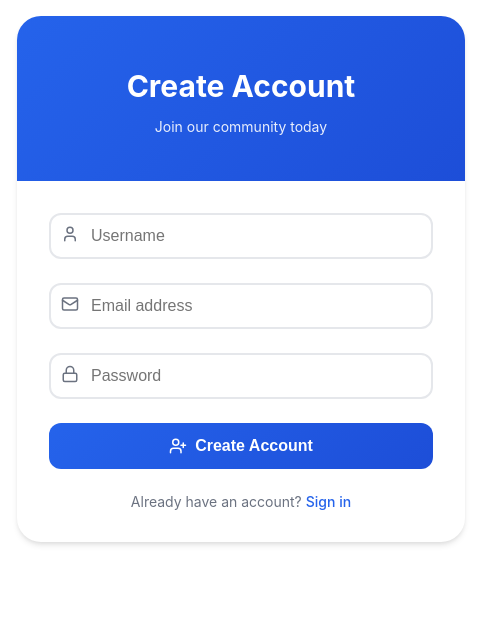
Register Component › displays an error message if signUp fails
This screenshot has width=483, height=637.
Type "validUser" into the field with placeholder "Username" at (241, 236), box [49, 213, 433, 259]
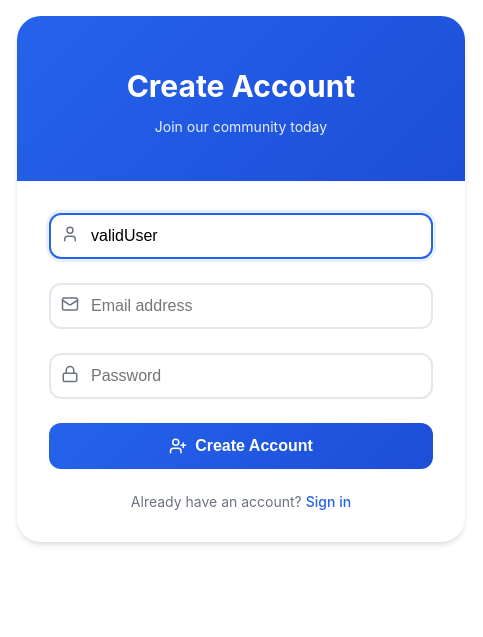
Type "test@example.com" into the field with placeholder "Email address" at (241, 306), box [49, 283, 433, 329]
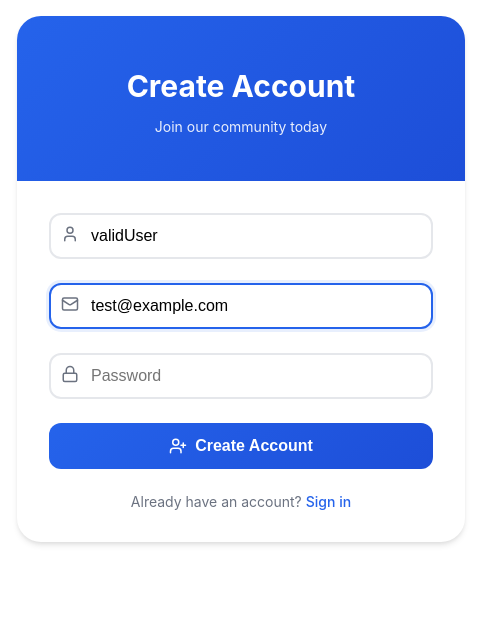
Type "validPassword123" into the password field with placeholder "Password" at (241, 376), box [49, 353, 433, 399]
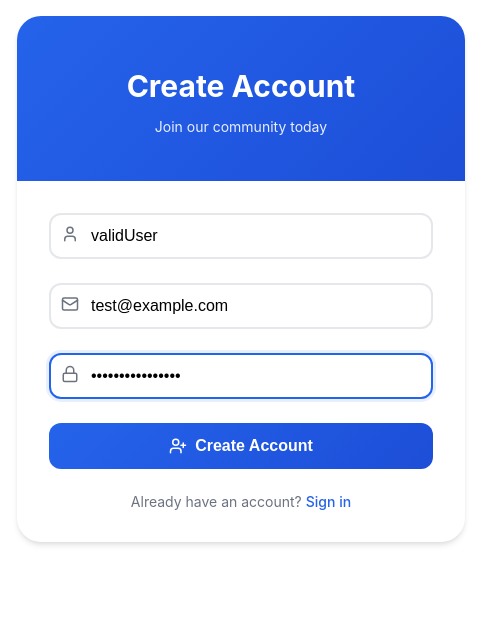
Click the button with test id "create-account-btn" at (241, 446), box [49, 423, 433, 469]
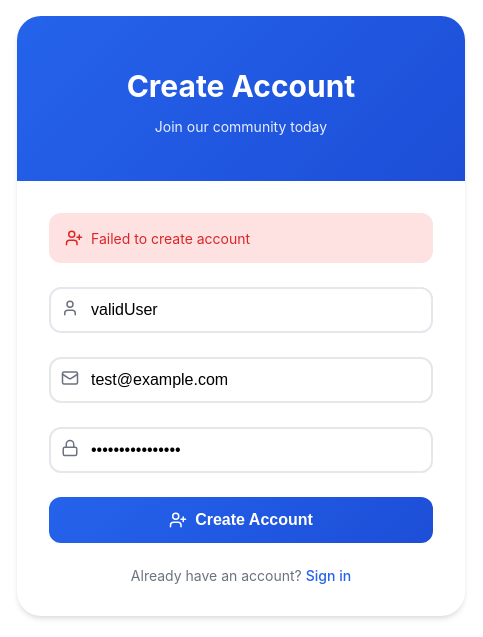
Now the text "Failed to create account" is shown, box [49, 213, 433, 263]
